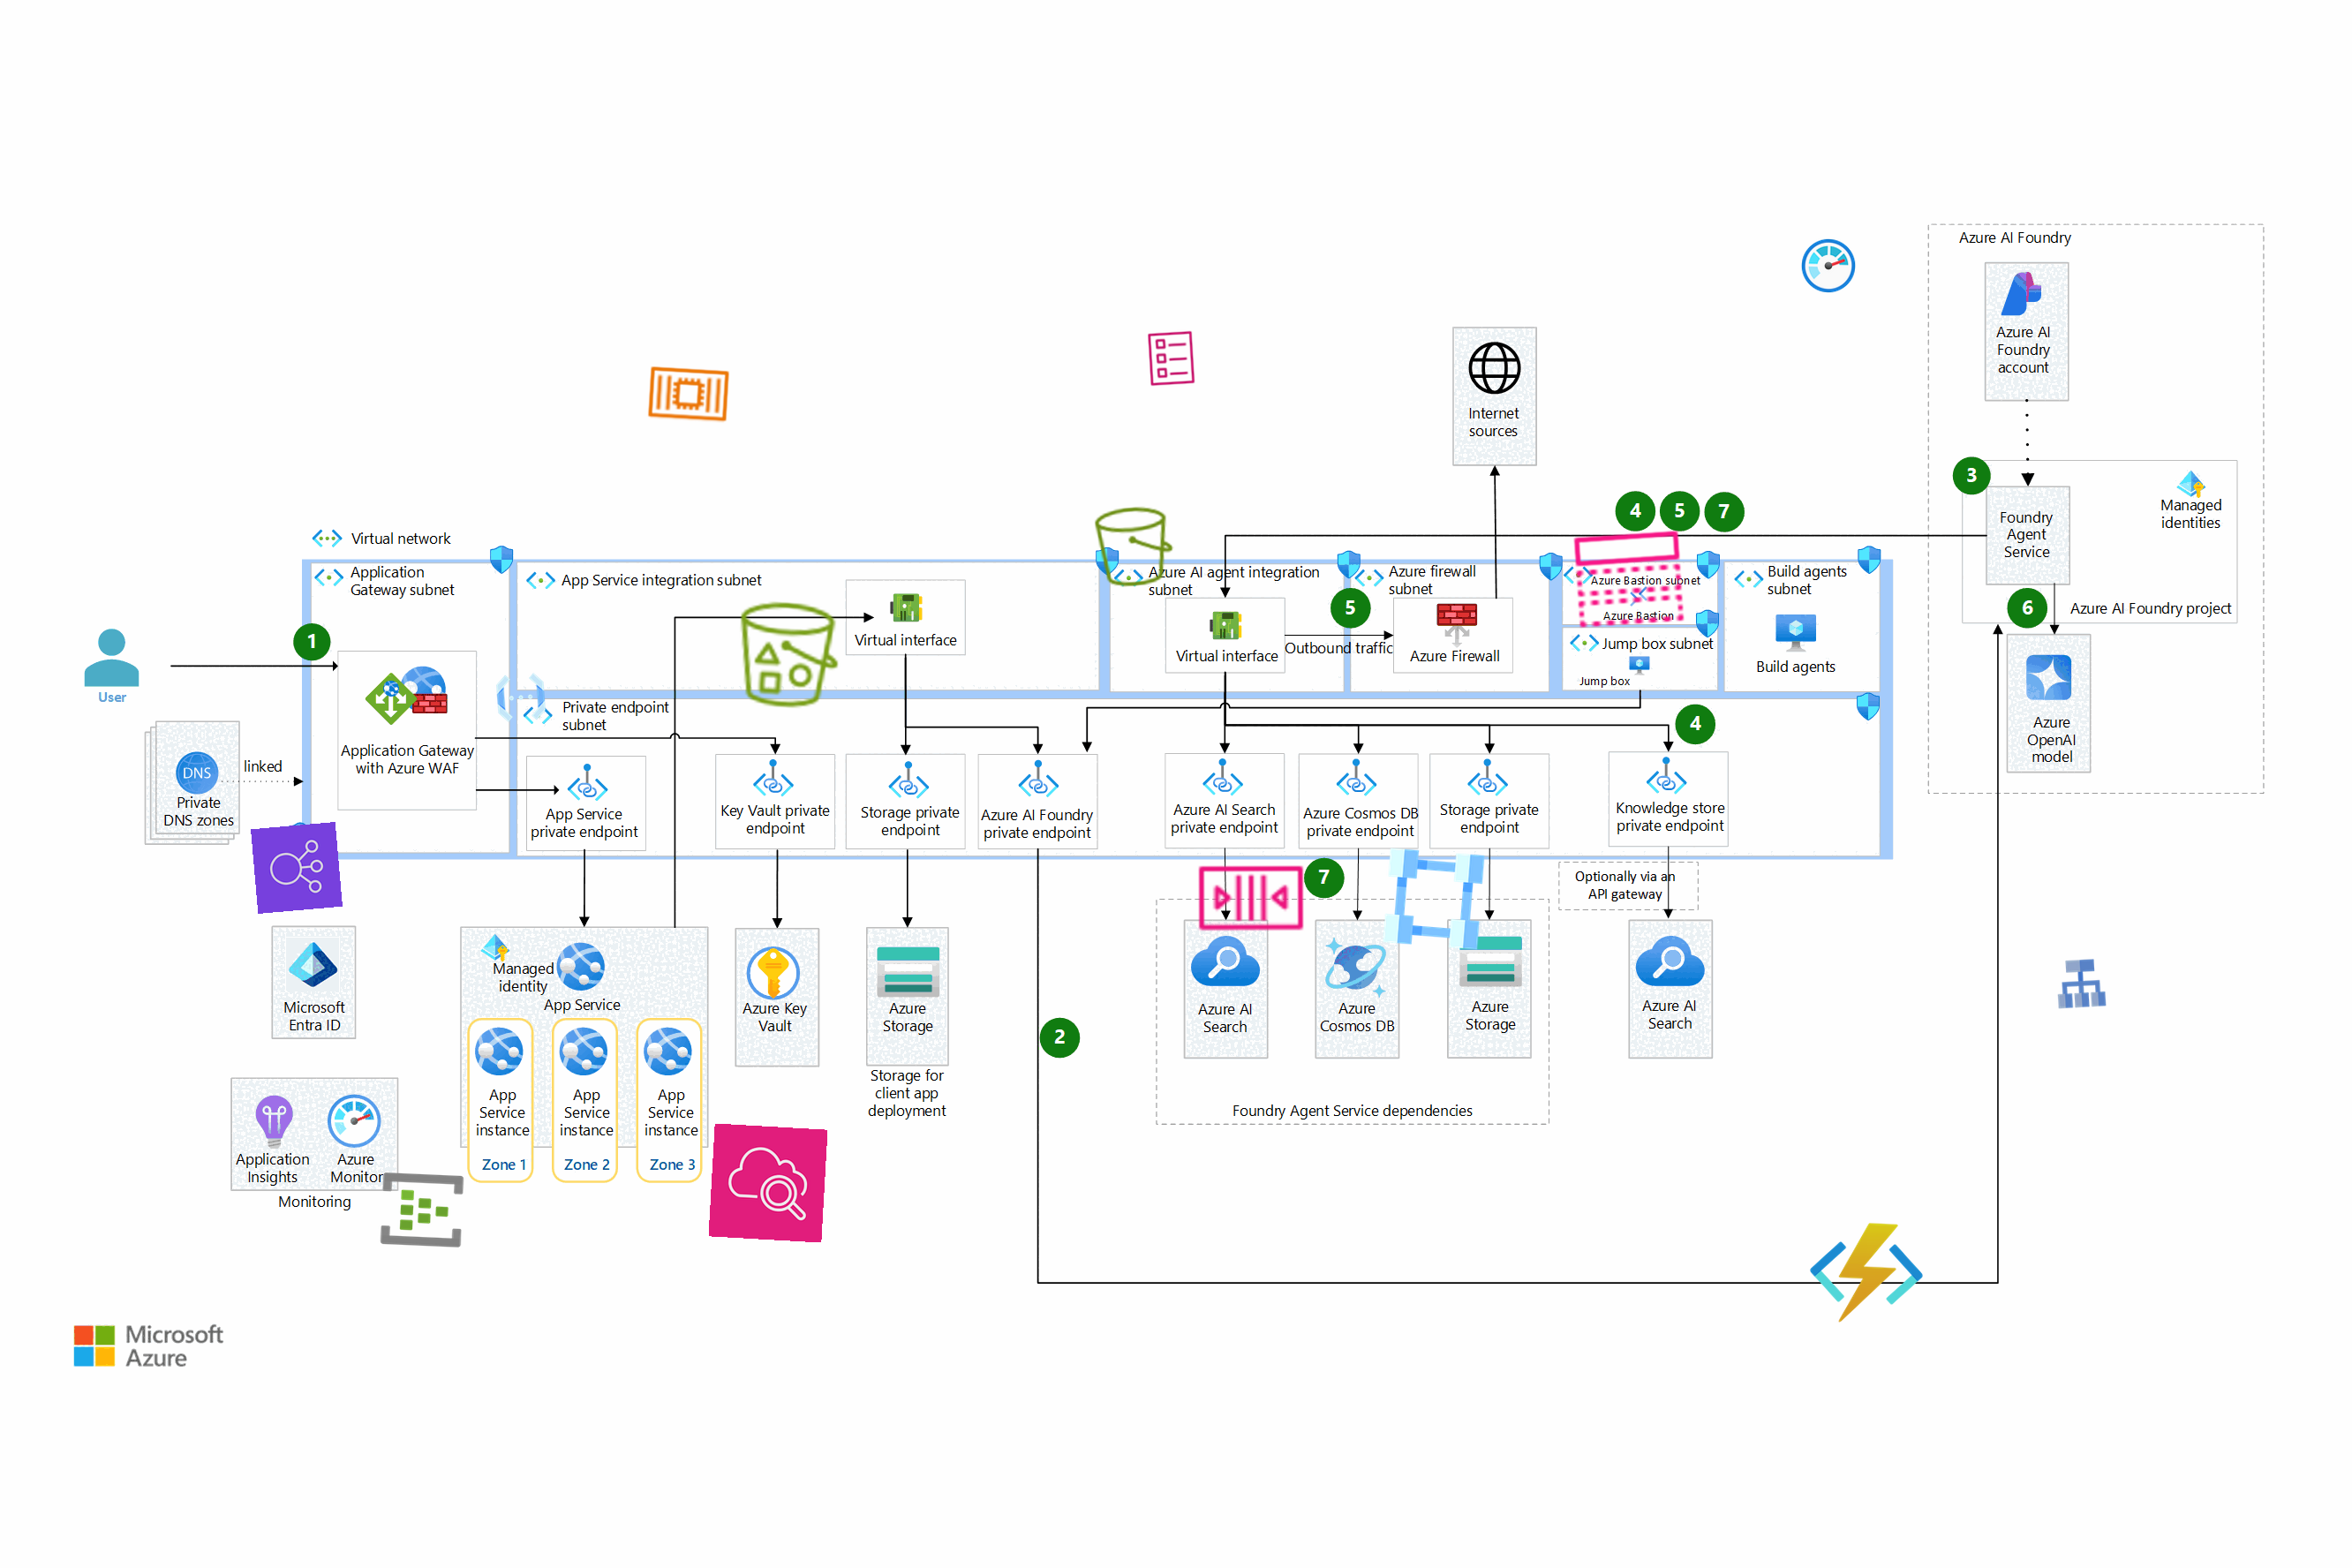aws_amazon_cloudwatch: (709, 1123, 828, 1242)
aws_cloudformation_template: (1141, 329, 1200, 388)
aws_elastic_container_service_container_2: (644, 348, 733, 439)
aws_elastic_load_balancing: (250, 822, 343, 914)
aws_simple_notification_service_topic: (1568, 518, 1690, 640)
aws_simple_queue_service_queue: (1193, 840, 1309, 954)
aws_simple_storage_service_bucket_with_objects: (728, 595, 849, 716)
aws_simple_storage_service_s3_standard: (1088, 500, 1181, 593)
azure_event_hubs: (376, 1164, 467, 1255)
azure_function_apps: (1806, 1213, 1927, 1333)
azure_monitor: (1799, 236, 1858, 296)
gcp_cloud_functions: (490, 667, 551, 728)
gcp_cloud_load_balancing: (2051, 954, 2110, 1013)
gcp_virtual_private_cloud: (1374, 838, 1494, 959)
